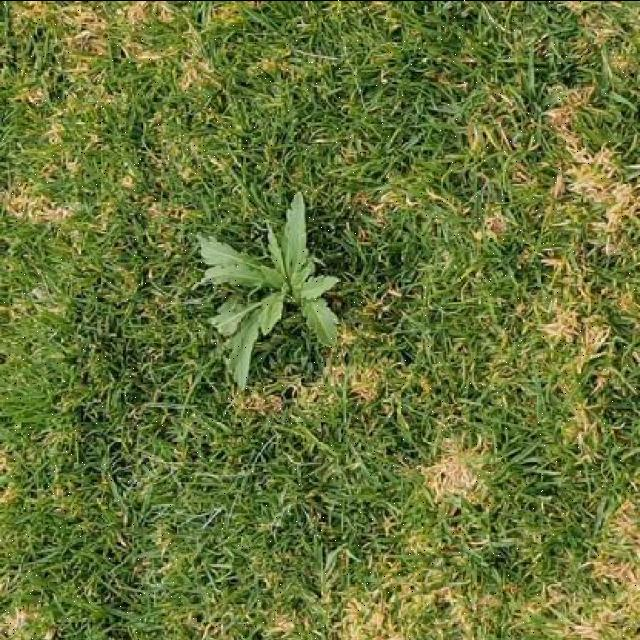weed: (198, 192, 339, 386)
